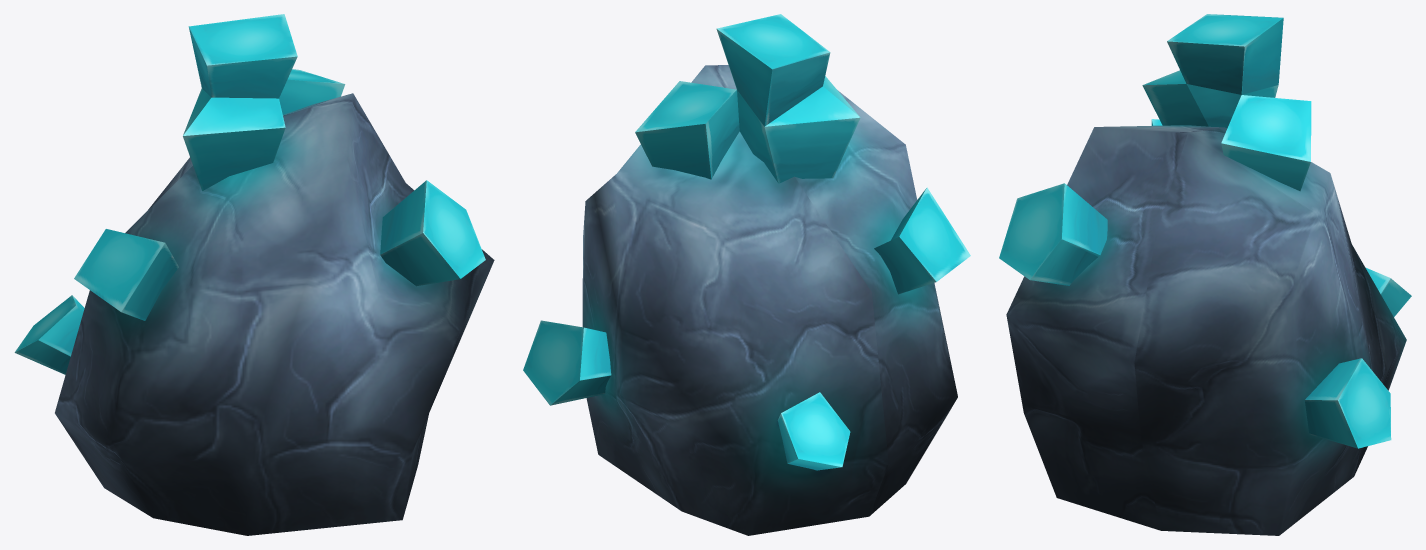
File: ore_medium_mithril.fbx
3 renders of one model, left to right at view 1: azimuth 30°, elevation 25°; view 2: azimuth 150°, elevation 25°; view 3: azimuth 270°, elevation 25°, orthographic.
Parts seen in each view (by area): view 1: ore_medium_mithril1:Mesh; view 2: ore_medium_mithril1:Mesh; view 3: ore_medium_mithril1:Mesh.
Part boxes in pixels (x1,y1,x2,y2): ore_medium_mithril1:Mesh: [14, 14, 494, 535]; ore_medium_mithril1:Mesh: [523, 14, 970, 535]; ore_medium_mithril1:Mesh: [999, 14, 1411, 535].
Bounding box in the file's own units: 3.89 × 4.44 × 3.78.
